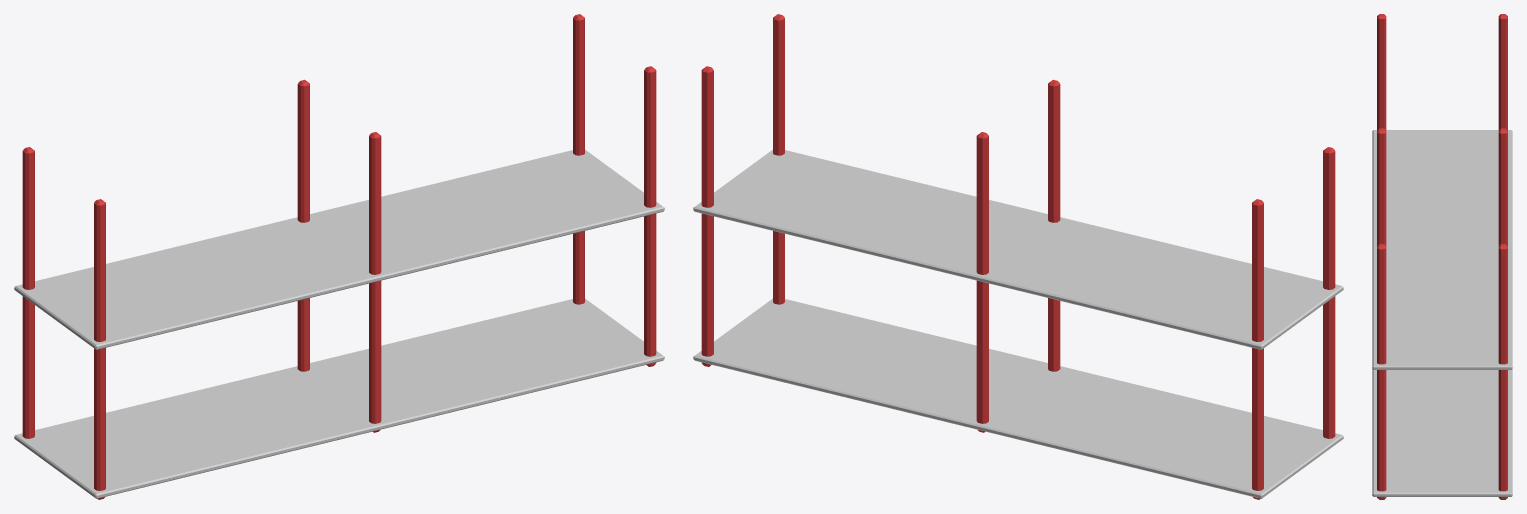
The model's file is shelf.gltf.
3 views of the same model, side by side, from view 1: azimuth 30°, elevation 25°; view 2: azimuth 150°, elevation 25°; view 3: azimuth 270°, elevation 25° (orthographic). The views are drawn at different scales.
Parts seen in each view (by area): view 1: pasted__pCube1_group4, pCube1, group7_pasted__pasted__pasted__pCube3_pasted__pasted__group3, pasted__pasted__pCube3_pasted__group3_group5, pasted__pasted__pCube3_pasted__group3_group6, group6_pasted__pasted__pasted__pCube3_pasted__pasted__group3, pasted__pCube3_group3, pasted__pasted__pCube3_pasted__group3_group7; view 2: pasted__pCube1_group4, pCube1, pasted__pasted__pCube3_pasted__group3_group7, pasted__pCube3_group3, group6_pasted__pasted__pasted__pCube3_pasted__pasted__group3, pasted__pasted__pCube3_pasted__group3_group6, pasted__pasted__pCube3_pasted__group3_group5, group7_pasted__pasted__pasted__pCube3_pasted__pasted__group3; view 3: pasted__pCube1_group4, pCube1, pasted__pasted__pCube3_pasted__group3_group7, group7_pasted__pasted__pasted__pCube3_pasted__pasted__group3, pasted__pCube3_group3, pasted__pasted__pCube3_pasted__group3_group5, group6_pasted__pasted__pasted__pCube3_pasted__pasted__group3, pasted__pasted__pCube3_pasted__group3_group6.
Boxes of the visible parts, x1,y1,x2,y2 form: pasted__pCube1_group4: (14, 149, 664, 349); pCube1: (14, 298, 664, 498); group7_pasted__pasted__pasted__pCube3_pasted__pasted__group3: (644, 66, 656, 366); pasted__pasted__pCube3_pasted__group3_group5: (369, 132, 381, 432); pasted__pasted__pCube3_pasted__group3_group6: (22, 147, 34, 438); group6_pasted__pasted__pasted__pCube3_pasted__pasted__group3: (94, 199, 105, 499); pasted__pCube3_group3: (297, 79, 309, 371); pasted__pasted__pCube3_pasted__group3_group7: (573, 14, 584, 304); pasted__pCube1_group4: (693, 149, 1343, 349); pCube1: (693, 298, 1343, 498); pasted__pasted__pCube3_pasted__group3_group7: (701, 66, 713, 366); pasted__pCube3_group3: (976, 132, 988, 432); group6_pasted__pasted__pasted__pCube3_pasted__pasted__group3: (1323, 147, 1335, 438); pasted__pasted__pCube3_pasted__group3_group6: (1252, 199, 1263, 499); pasted__pasted__pCube3_pasted__group3_group5: (1048, 79, 1060, 371); group7_pasted__pasted__pasted__pCube3_pasted__pasted__group3: (773, 14, 784, 304); pasted__pCube1_group4: (1372, 130, 1512, 369); pCube1: (1372, 369, 1512, 496); pasted__pasted__pCube3_pasted__group3_group7: (1498, 244, 1507, 499); group7_pasted__pasted__pasted__pCube3_pasted__pasted__group3: (1377, 244, 1386, 499); pasted__pCube3_group3: (1498, 128, 1507, 245); pasted__pasted__pCube3_pasted__group3_group5: (1377, 128, 1386, 245); group6_pasted__pasted__pasted__pCube3_pasted__pasted__group3: (1377, 14, 1386, 130); pasted__pasted__pCube3_pasted__group3_group6: (1498, 14, 1507, 130).
Size of the model in its own units: 0.12 by 0.0603 by 0.03.
